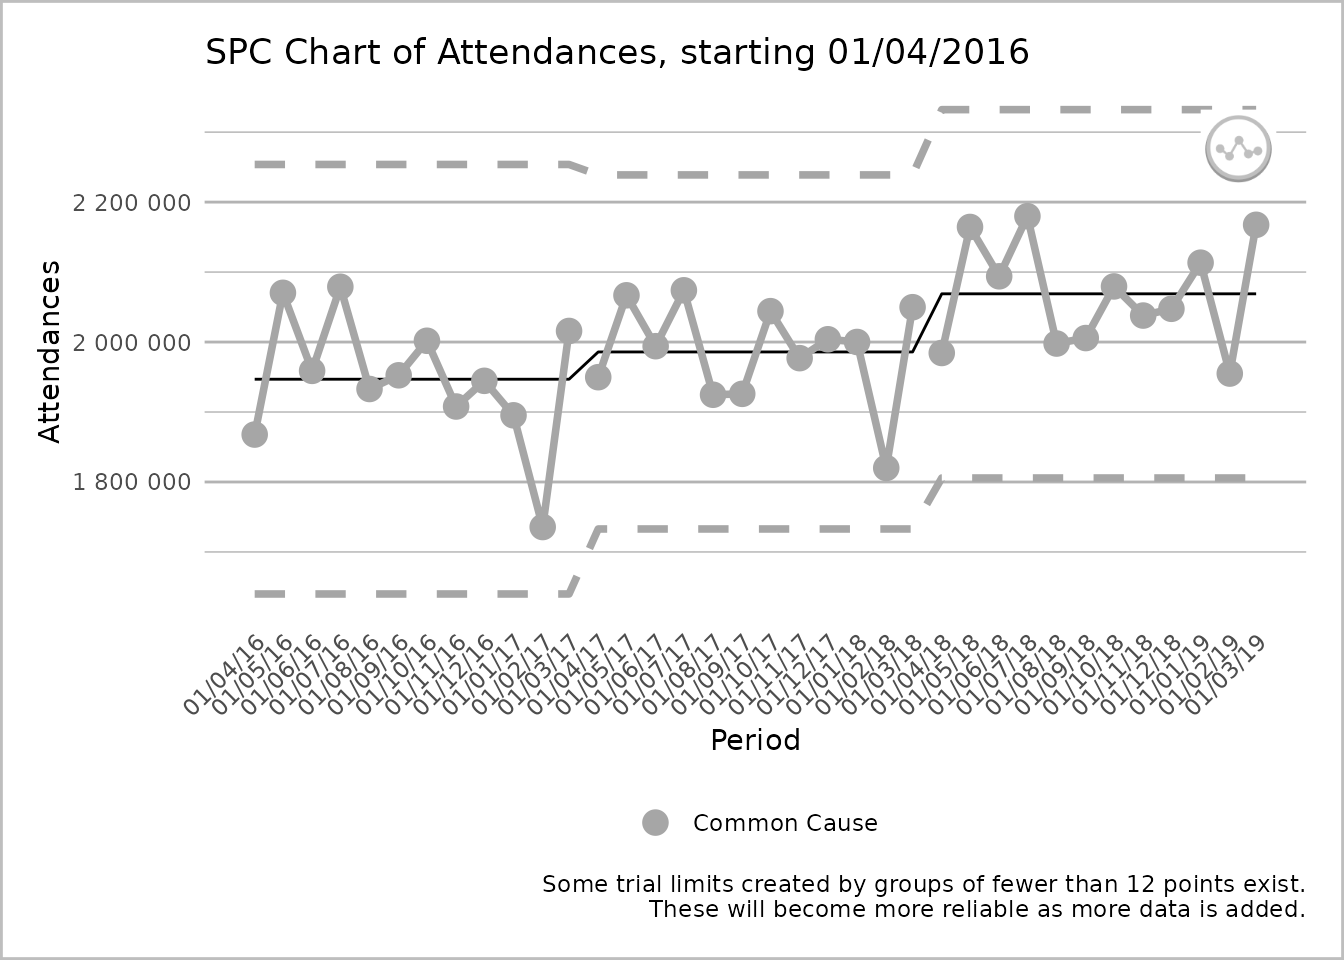

What the dashboard file says about the page in this screenshot:
{"tool":"powerbi","page":{"name":"Rebase Example","canvas":[1280,720],"ordinal":1},"visuals":[{"type":"xmrspcplotthedots2FD6DE3F139F480F8B0CFC006078D180","fields":{"Values":["spc_xmr_sample_dataset.baseline_duration","spc_xmr_sample_dataset.comment","spc_xmr_sample_dataset.date","spc_xmr_sample_dataset.improvement_direction","spc_xmr_sample_dataset.recalc_here","Sum(spc_xmr_sample_dataset.target)","Sum(spc_xmr_sample_dataset.value)","spc_xmr_sample_dataset.what"]},"box":[10.1,30.2,1235.7,669.2],"z":0}]}

Visuals, with their boxes on the page's 1280x720 design canvas (x1, y1, x2, y2). These are canvas units, not pixel positions in the 1344x960 screenshot, which may show the page scaled, cropped or inside an application window:
xmrspcplotthedots2FD6DE3F139F480F8B0CFC006078D180 - spc_xmr_sample_dataset.baseline_duration x spc_xmr_sample_dataset.comment: <box>10,30,1246,699</box>
